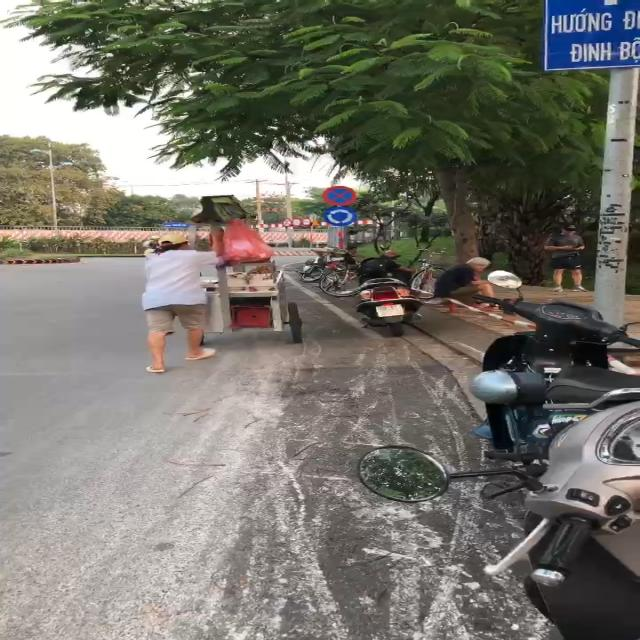Bien bao cam dung xe va do xe: (317, 184, 364, 206)
Bien bao noi giao nhau chay theo vong xuyen: (320, 206, 364, 228)
